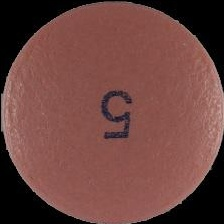55154-6931: (0, 0, 224, 224)
